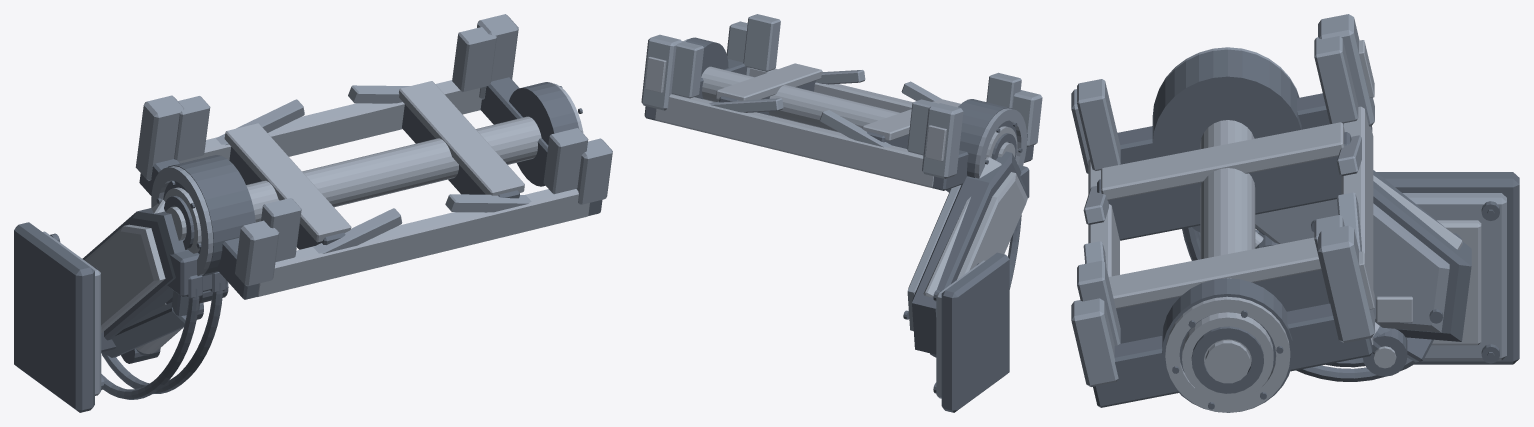
Rendered from vertical-pods-b-hip-mount-v1.glb.
3 renders of one model, left to right at view 1: azimuth 30°, elevation 25°; view 2: azimuth 150°, elevation 25°; view 3: azimuth 270°, elevation 25°, orthographic. The views are drawn at different scales.
Visible parts, largest first — view 1: RotatingCradle_B, HipBracket_B; view 2: RotatingCradle_B, HipBracket_B; view 3: RotatingCradle_B, HipBracket_B.
Part boxes in pixels (box(x1,y1,x2,y2)): RotatingCradle_B: box(135, 14, 612, 299); HipBracket_B: box(14, 116, 541, 412); RotatingCradle_B: box(641, 14, 1042, 190); HipBracket_B: box(701, 66, 1029, 412); RotatingCradle_B: box(1071, 14, 1374, 412); HipBracket_B: box(1152, 47, 1519, 381).
Bounding box in the file's own units: 2.1 × 1.33 × 1.4.
